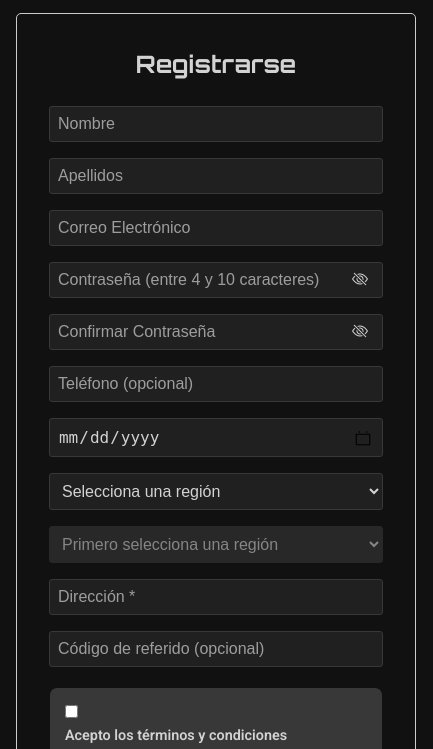
Register › Debería mostrar error cuando las contraseñas no coinciden
The width and height of the screenshot is (433, 749).
Type "Juan" into the field with placeholder "Nombre" at [216, 124], box [49,106,383,142]
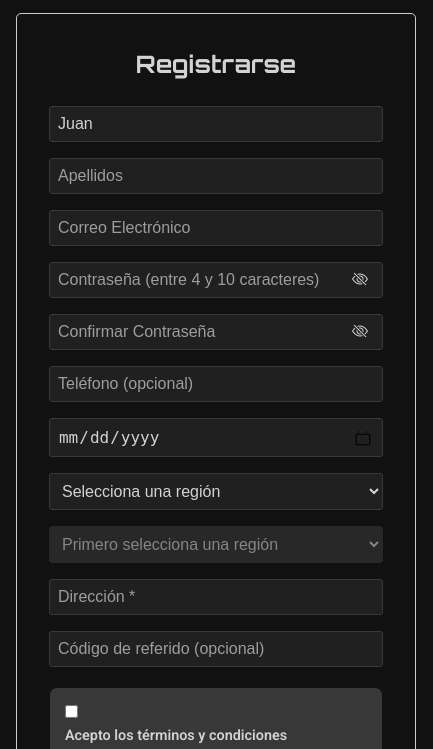
Type "juan@example.com" into the field with placeholder "Correo Electrónico" at [216, 228], box [49,210,383,246]
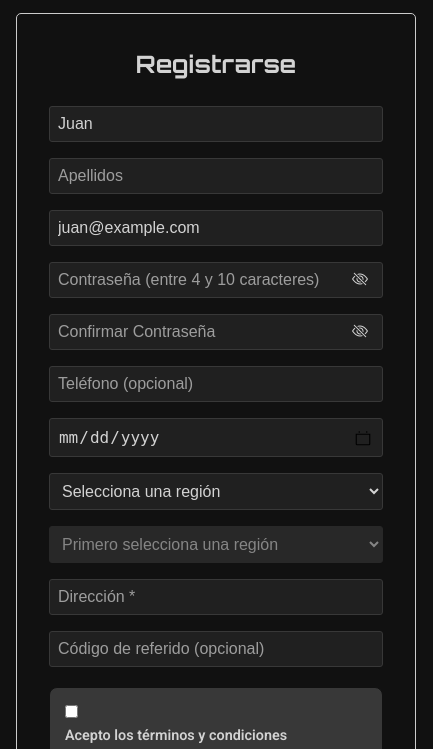
Type "1234" into the password field with placeholder "Contraseña (entre 4 y 10 caracteres)" at [216, 280], box [49,262,383,298]
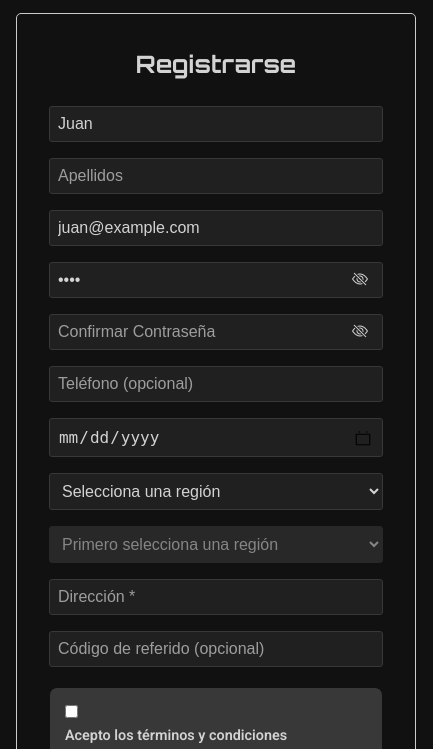
Type "5678" into the password field with placeholder "Confirmar Contraseña" at [216, 332], box [49,314,383,350]
(page scrolled)
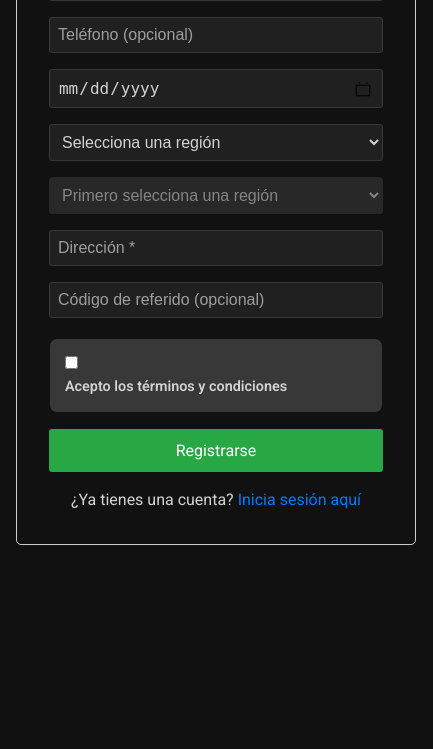
Click the button "Registrarse" at [216, 450], box [49,429,383,472]
(page scrolled)
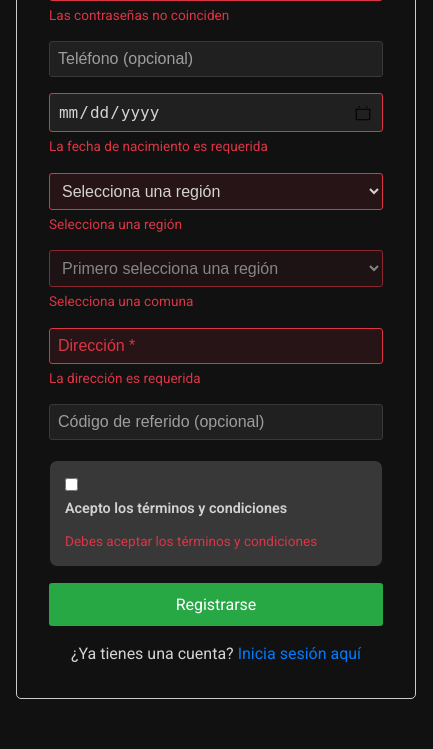
Now the text "Las contraseñas no coinciden" is shown, box [49,7,229,23]
